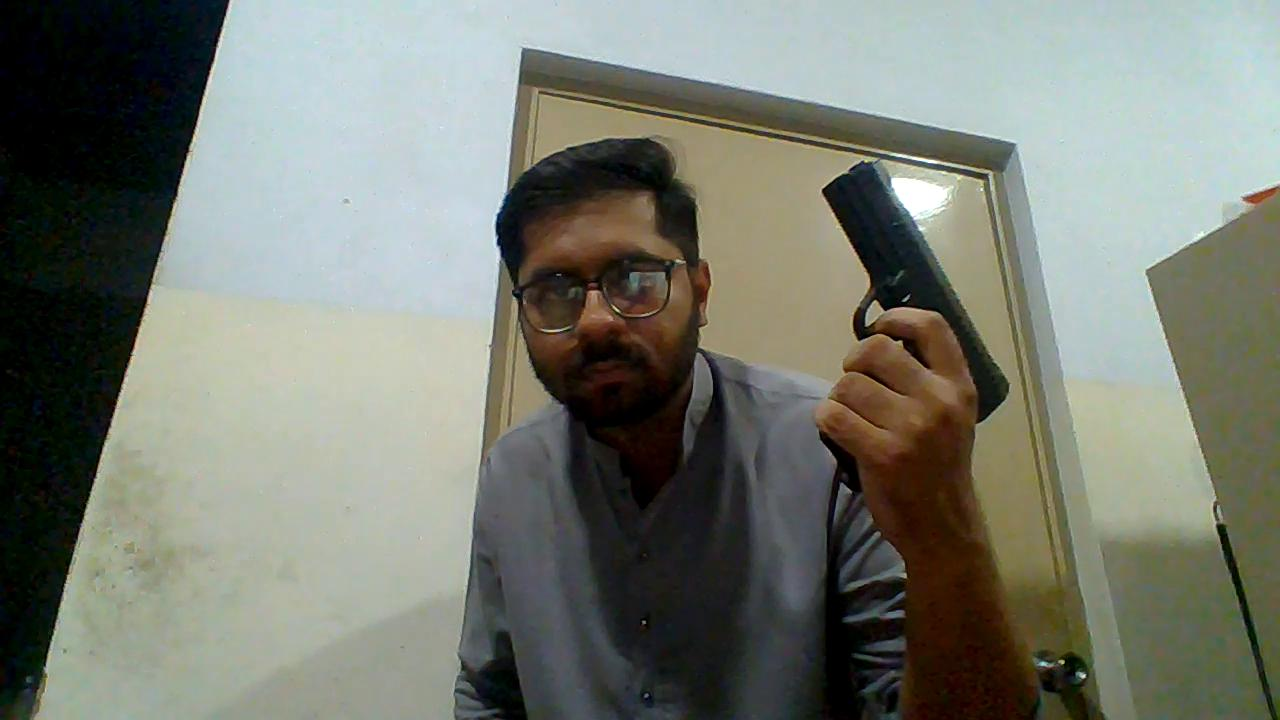criminal: (452, 134, 1040, 720)
weapon: (822, 157, 1009, 471)
